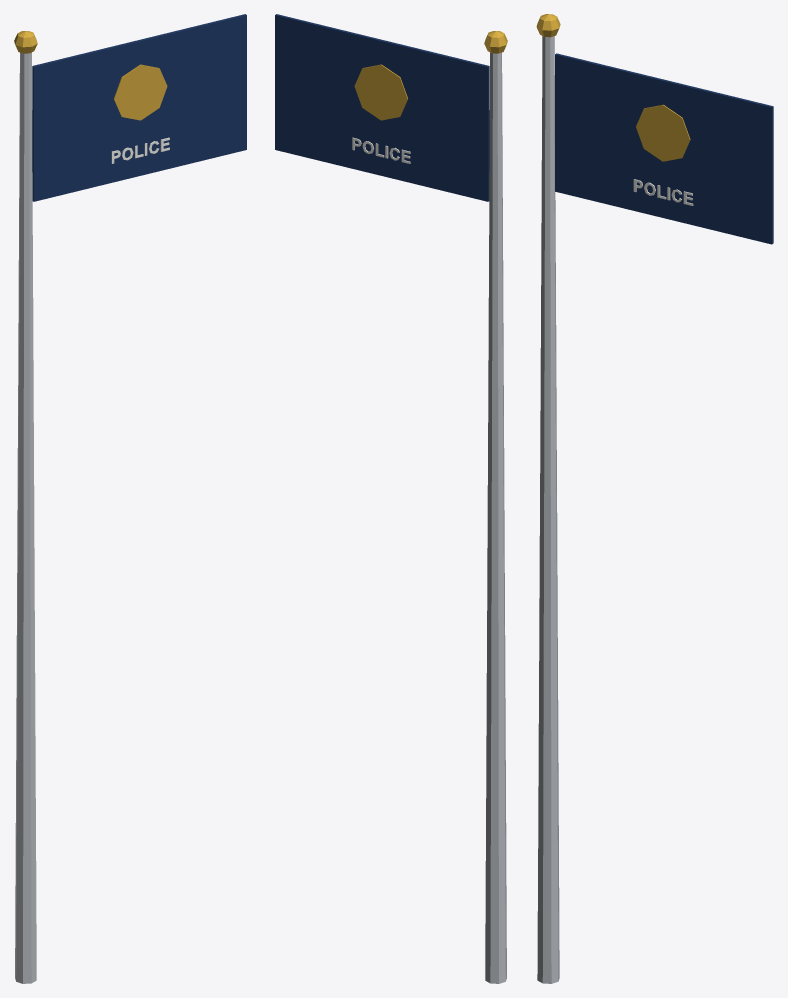
Rendered from PD_FlagPole_Police.fbx.
3 renders of one model, left to right at view 1: azimuth 30°, elevation 25°; view 2: azimuth 150°, elevation 25°; view 3: azimuth 330°, elevation 25°, orthographic.
Parts seen in each view (by area): view 1: PD_FlagPole_Police_Mesh; view 2: PD_FlagPole_Police_Mesh; view 3: PD_FlagPole_Police_Mesh.
Part boxes in pixels (x1,y1,x2,y2): PD_FlagPole_Police_Mesh: (14,14,246,983); PD_FlagPole_Police_Mesh: (275,14,507,983); PD_FlagPole_Police_Mesh: (536,14,773,983).
Size of the model in its own units: 2.6 by 10.2 by 0.24.
